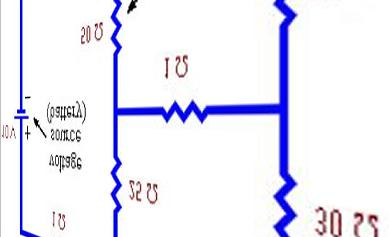resistor: (266, 164, 302, 235), (153, 91, 212, 128), (101, 151, 129, 221), (100, 0, 127, 48)
